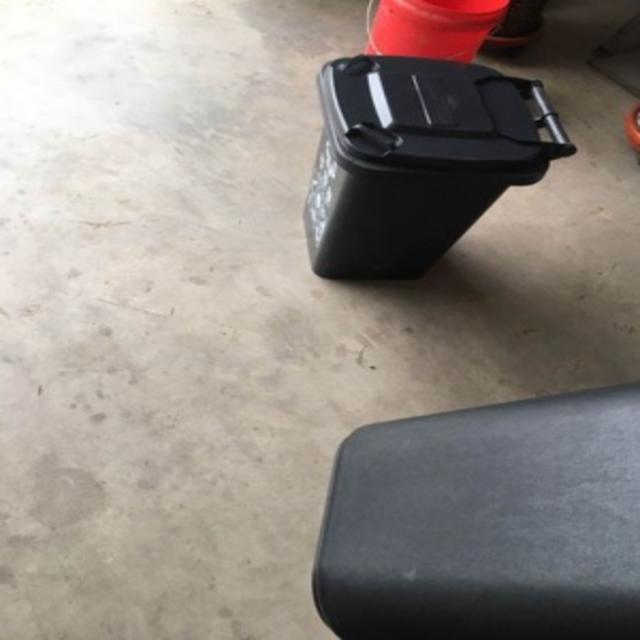ash bin: (299, 49, 576, 278)
